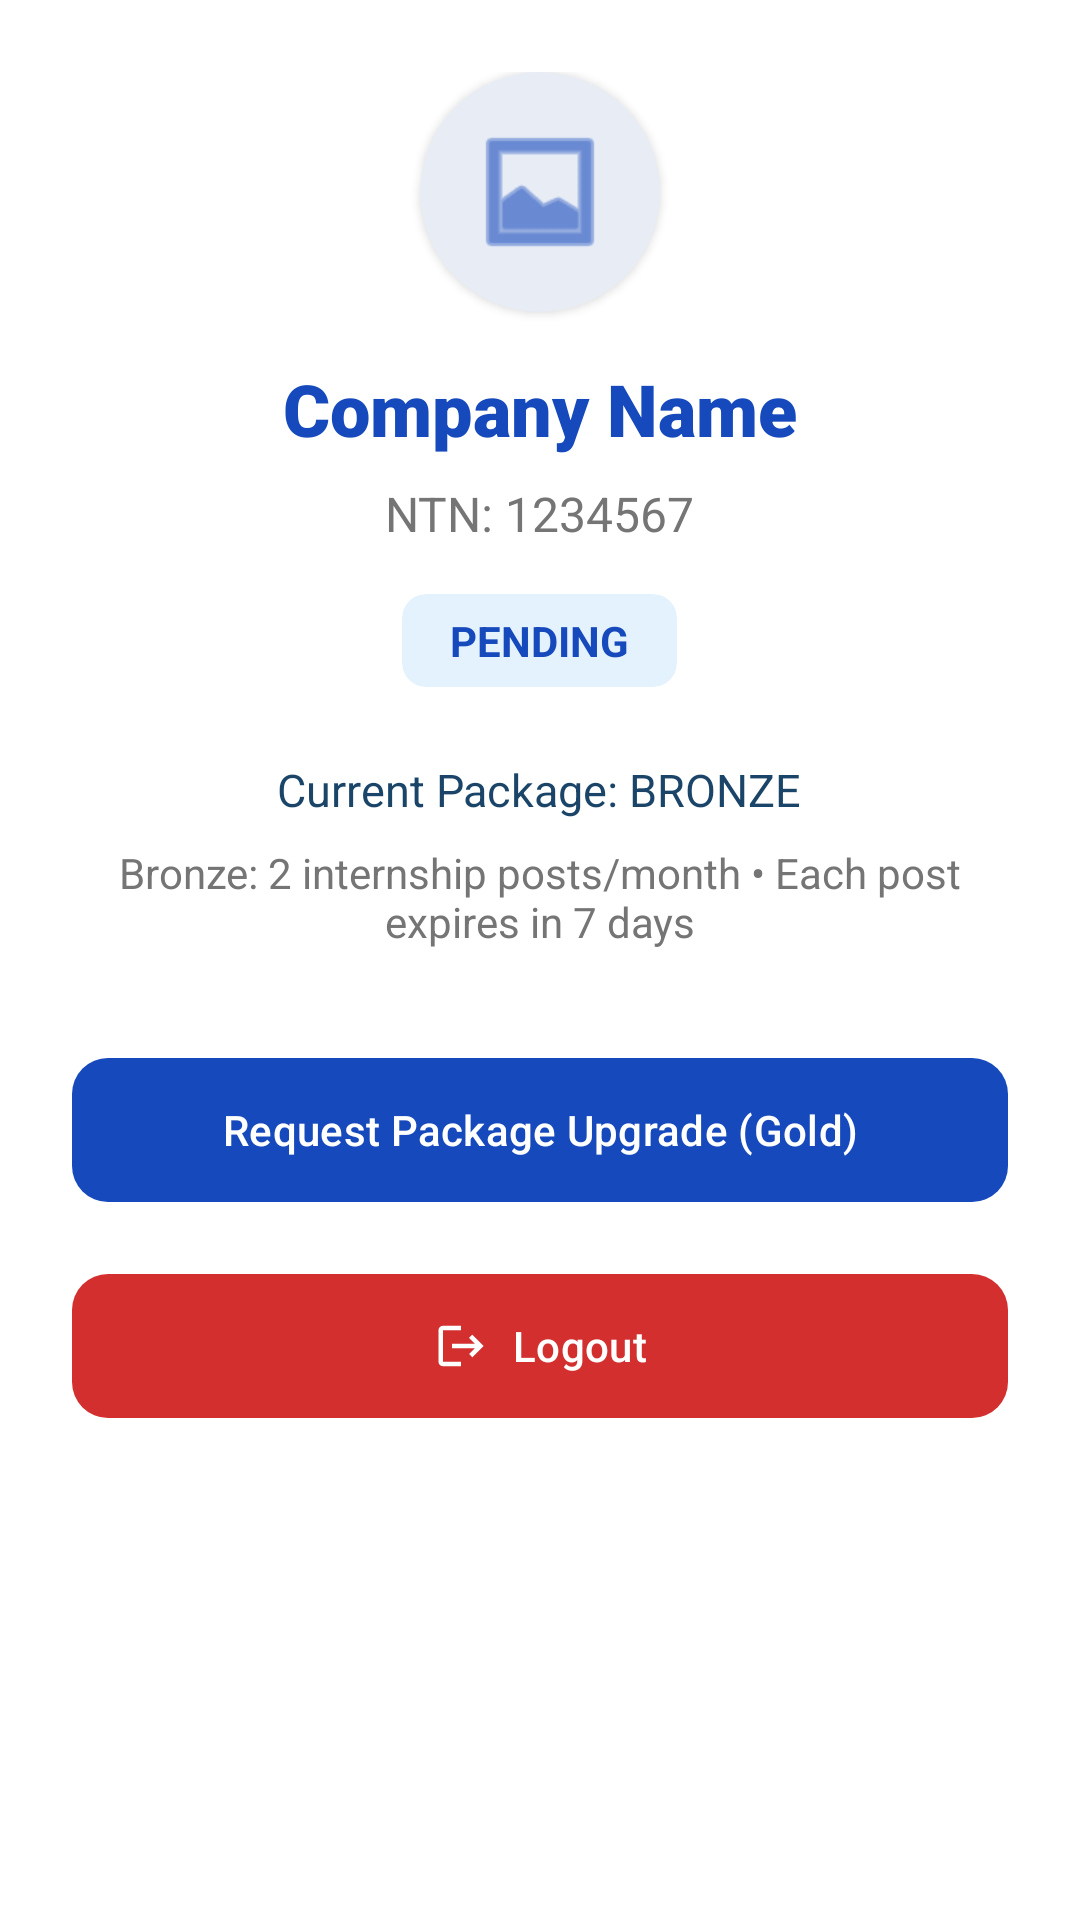

Icon bounding boxes for this 1080w x 1920h phone screenshot, format (x1, y1, x2, y2):
gallery: (420, 72, 660, 312)
